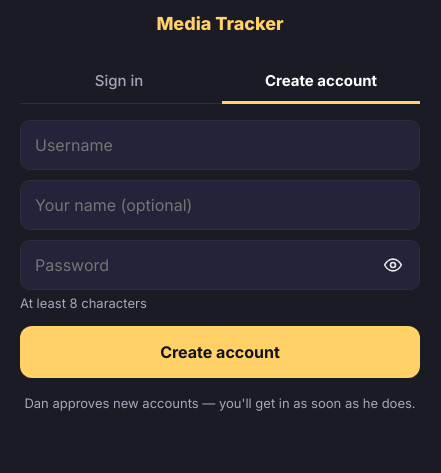
Test case: sign-ups (AD2) › a server feature_off on sign-up is said in words
The width and height of the screenshot is (441, 473).
In the field labelled "Username": coordinates (220, 145) [33,121,407,169], type "newbie"
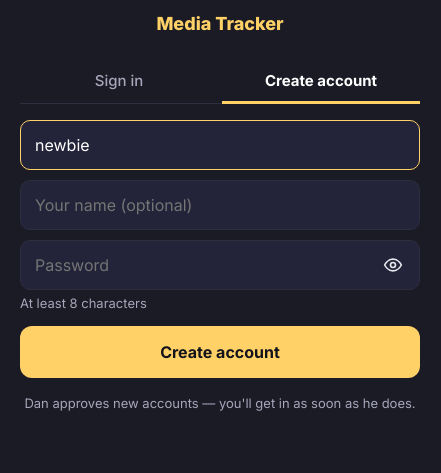
In the password field labelled "Password": coordinates (202, 265) [33,241,371,289], type "hunter2hunter2"
Then press Enter
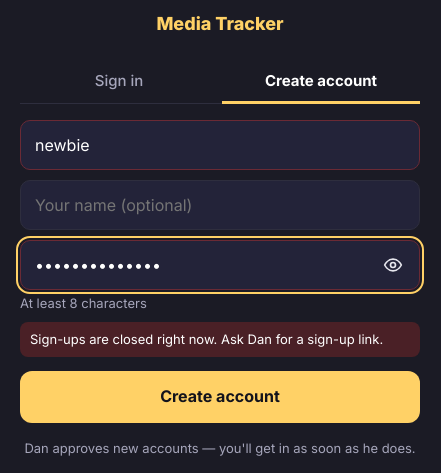
Result: the message shows "Sign-ups are closed" at [30,331,383,347]
